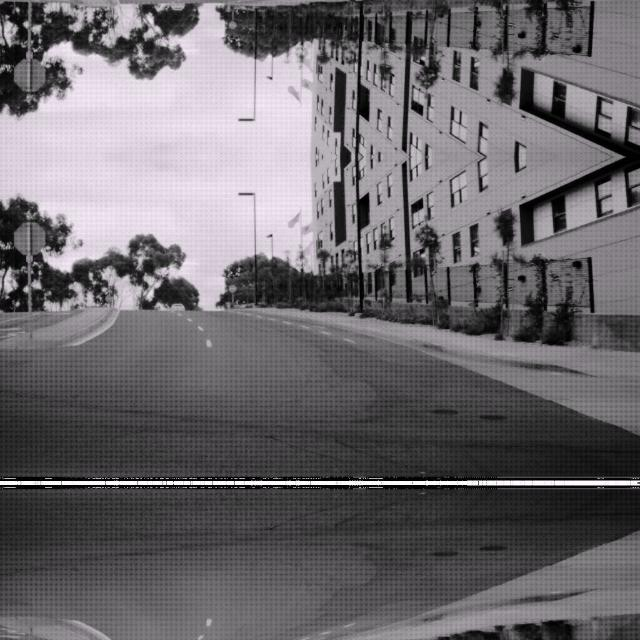stop: (228, 283, 236, 291), (228, 21, 236, 29)
